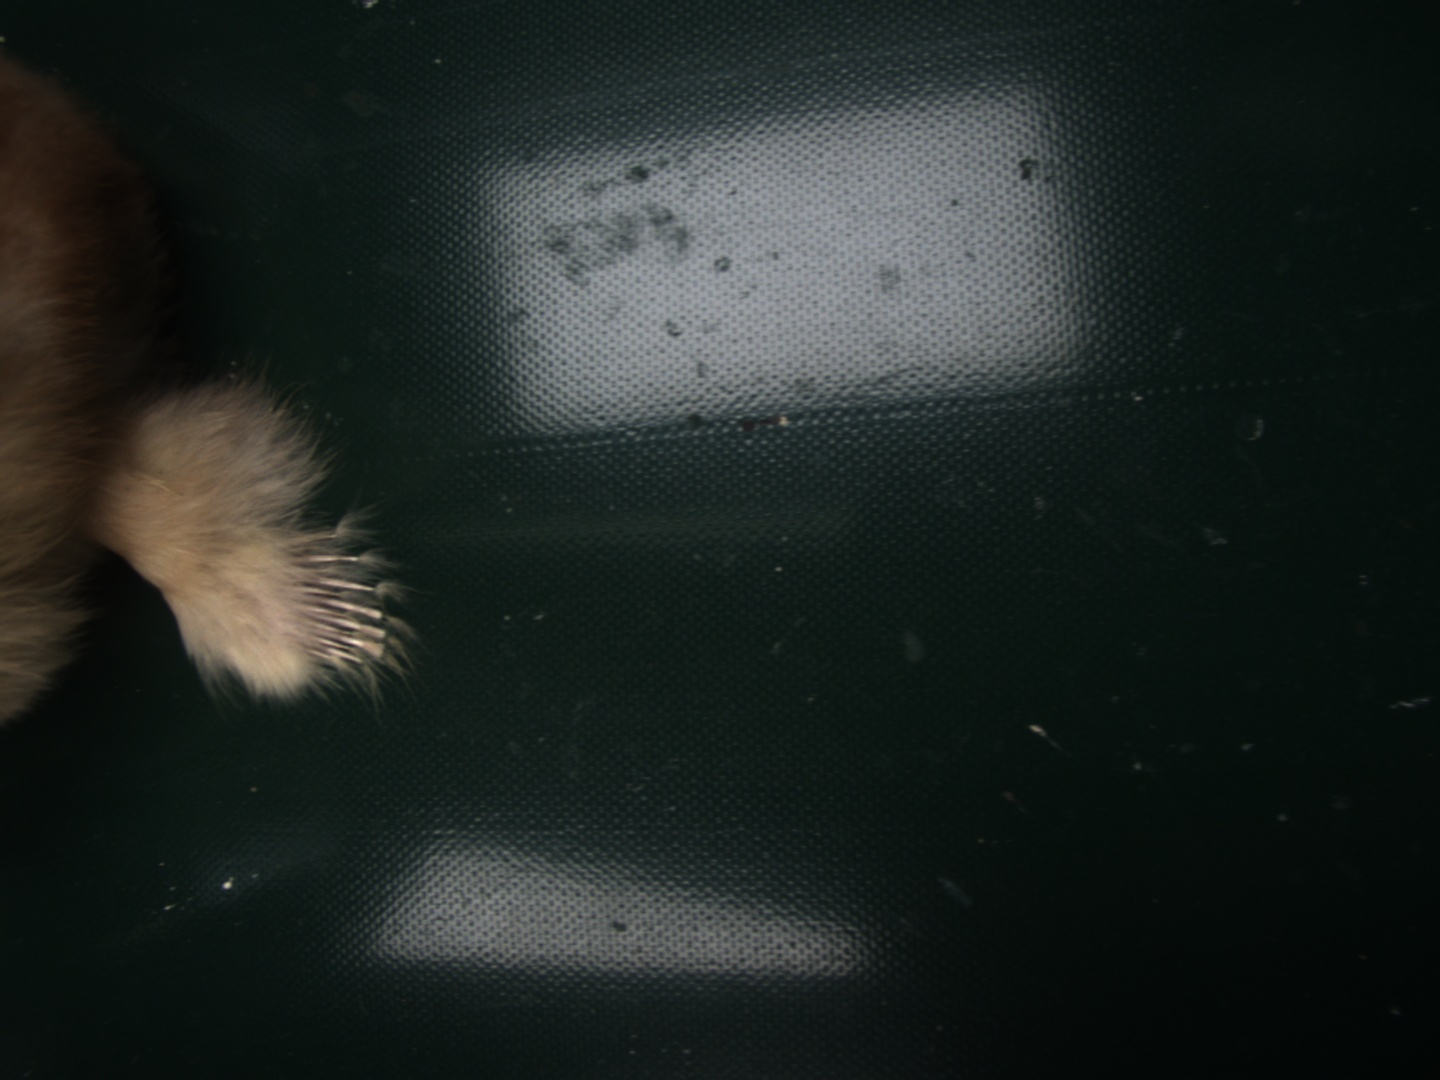female: (281, 523, 388, 675)
